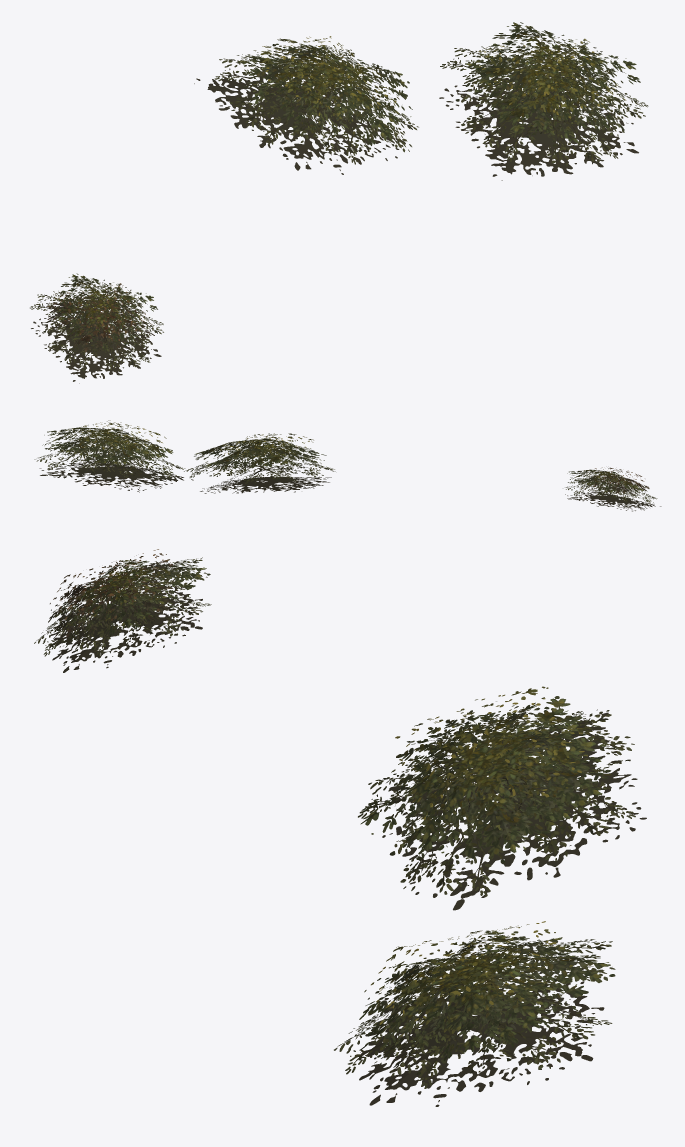
The model's file is plants_bushes06.fbx.
3 renders of one model, top to bottom at view 1: azimuth 30°, elevation 25°; view 2: azimuth 150°, elevation 25°; view 3: azimuth 270°, elevation 25°, orthographic. The views are drawn at different scales.
Parts seen in each view (by area): view 1: obj1.045; view 2: obj1.045; view 3: obj1.045.
Part boxes in pixels (left/top/right/bottom): obj1.045: left=30, top=22, right=648, bottom=383; obj1.045: left=34, top=420, right=661, bottom=511; obj1.045: left=34, top=549, right=646, bottom=1106.
Size of the model in its own units: 18.61 by 3.54 by 10.01.
